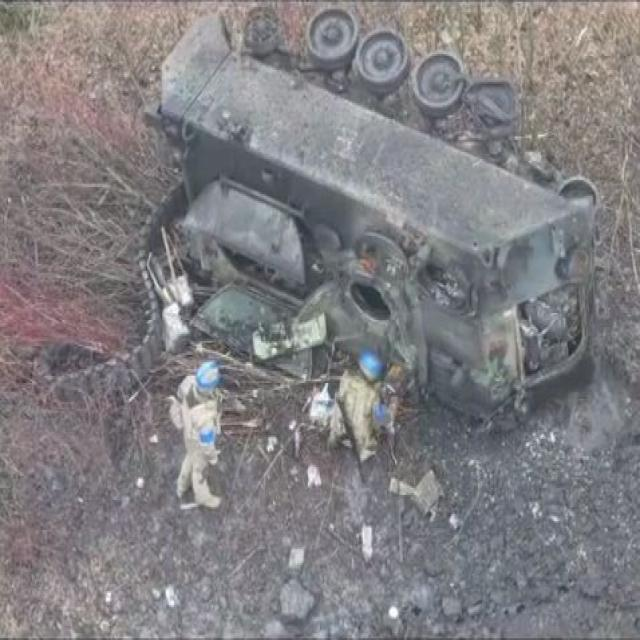infantry: (155, 349, 242, 521), (299, 344, 402, 462)
vehicle: (132, 3, 614, 404)
